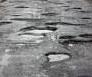pothole: (60, 33, 92, 47), (18, 25, 57, 36), (45, 51, 72, 63), (10, 14, 44, 23), (46, 21, 85, 27), (40, 11, 56, 17), (0, 20, 12, 25), (13, 6, 30, 9), (80, 16, 92, 20)
